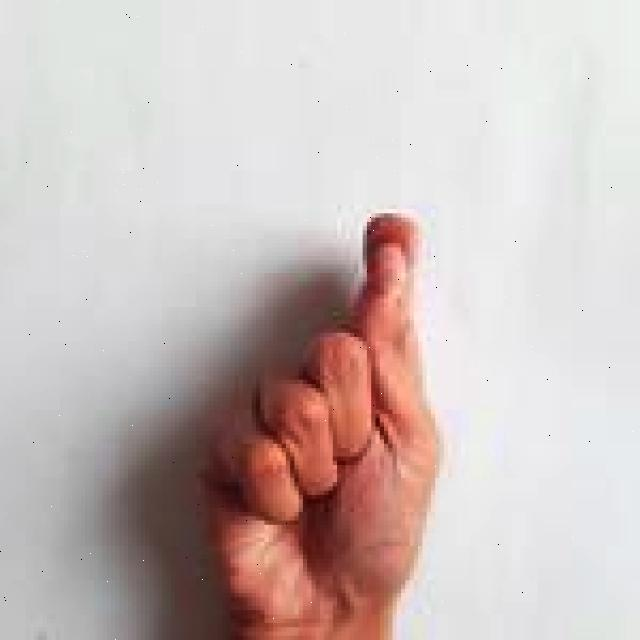T: (185, 211, 445, 640)
